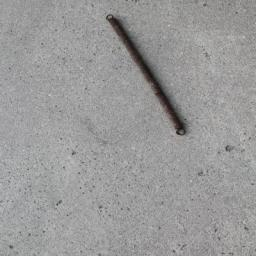FOD: (105, 13, 189, 139)
